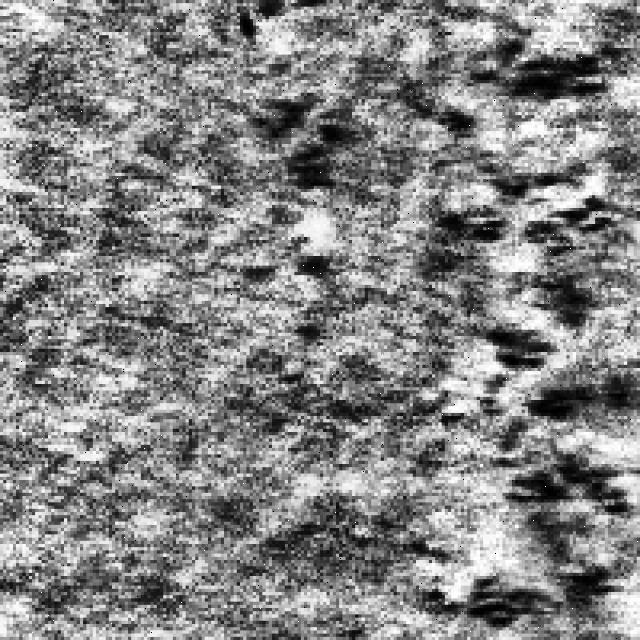Crazing: (438, 16, 634, 621), (243, 84, 362, 278)
